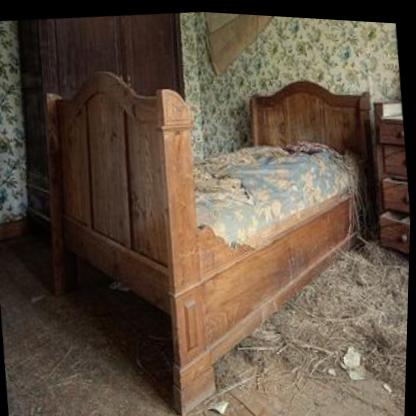Bed: (45, 70, 381, 412)
